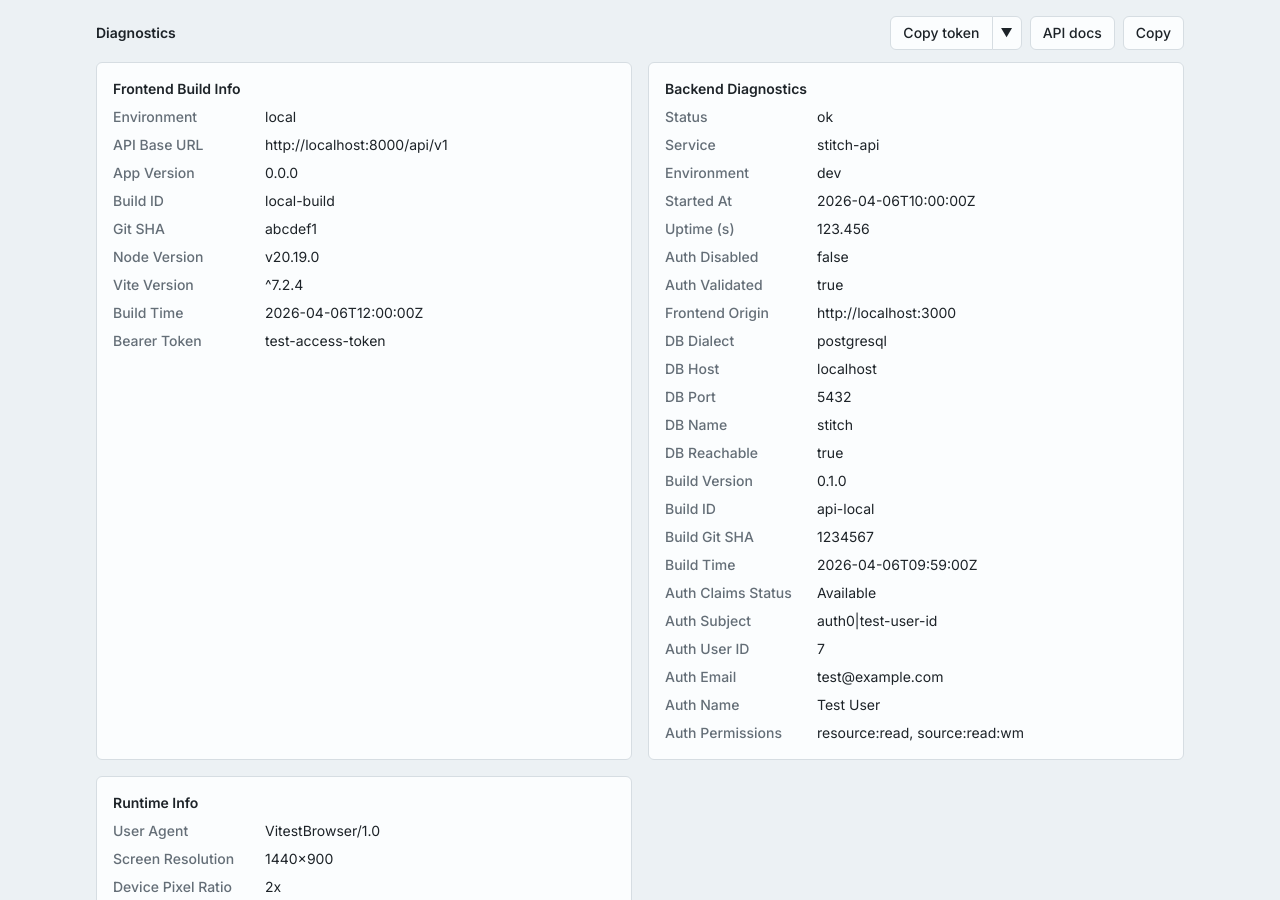
Test: ColophonPanel › refreshes the token without using the cache and reloads diagnostics
Expected: the text "stitch-api" is shown, [817,136,879,153]
Click the button named "More token actions" at (1007, 33), box [992,16,1022,50]
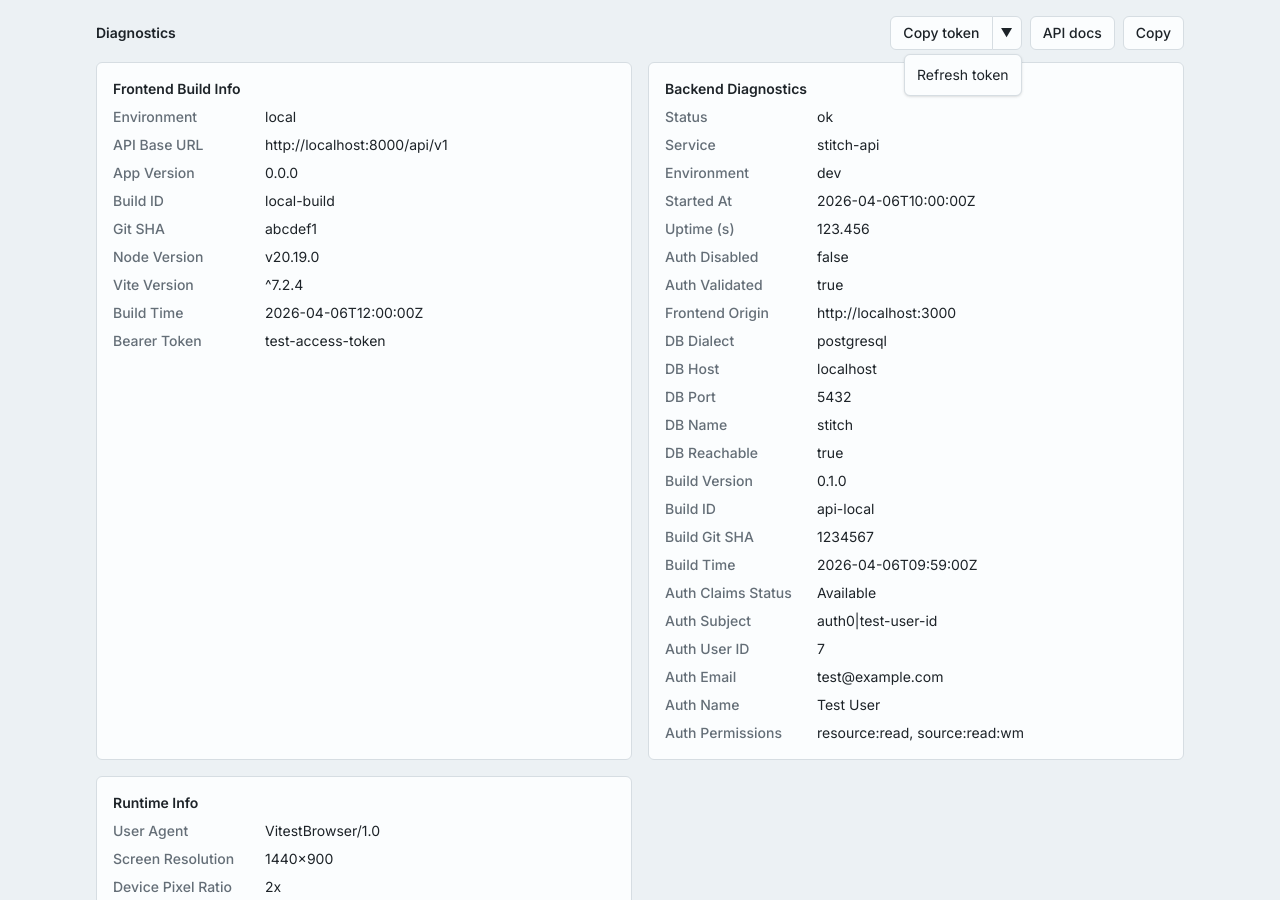
Click the button "Refresh token" at (963, 75), box [905,59,1021,91]
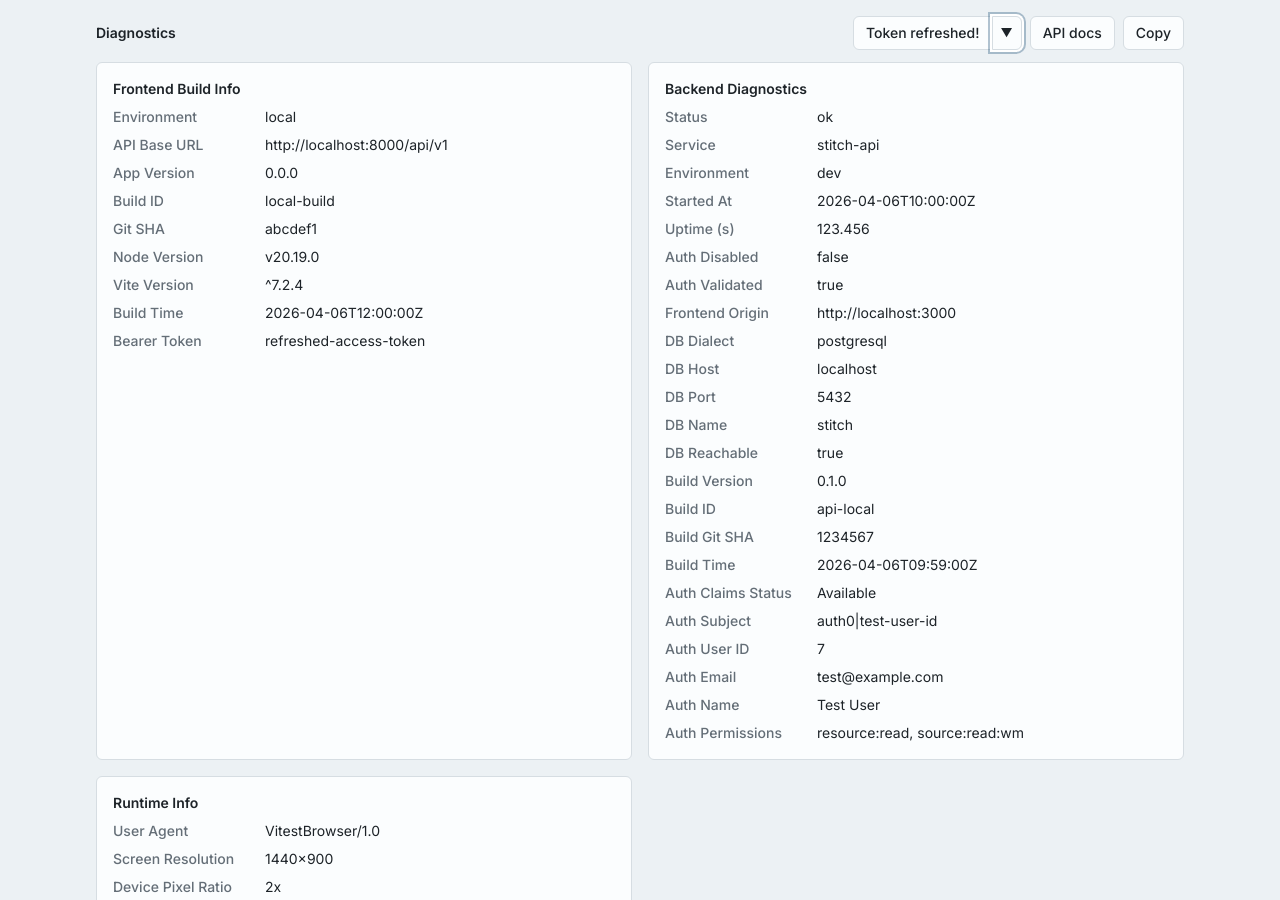
Expected: the button "Token refreshed!" is shown, [853,16,992,50]
Expected: the text "refreshed-access-token" is shown, [265,332,425,349]
